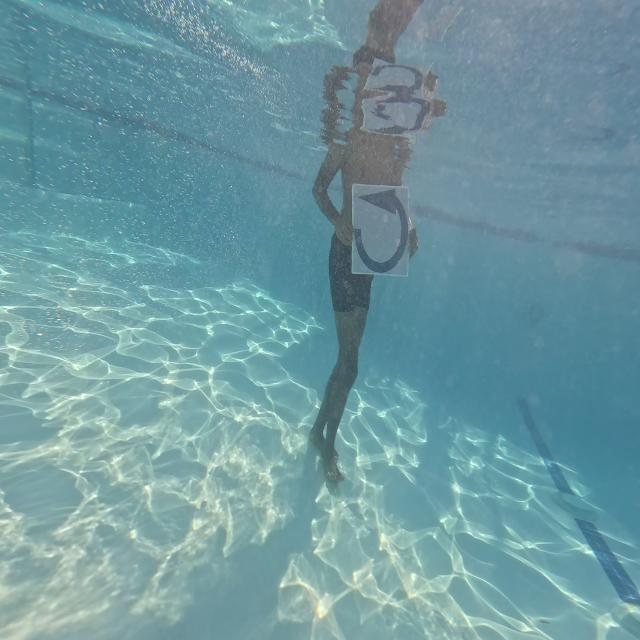blue_side: (348, 180, 413, 287)
